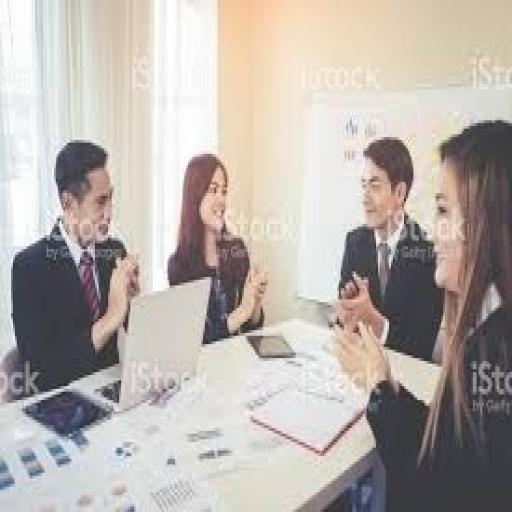clapping: (330, 118, 510, 509), (10, 137, 142, 395), (331, 134, 445, 364), (164, 151, 268, 344)
